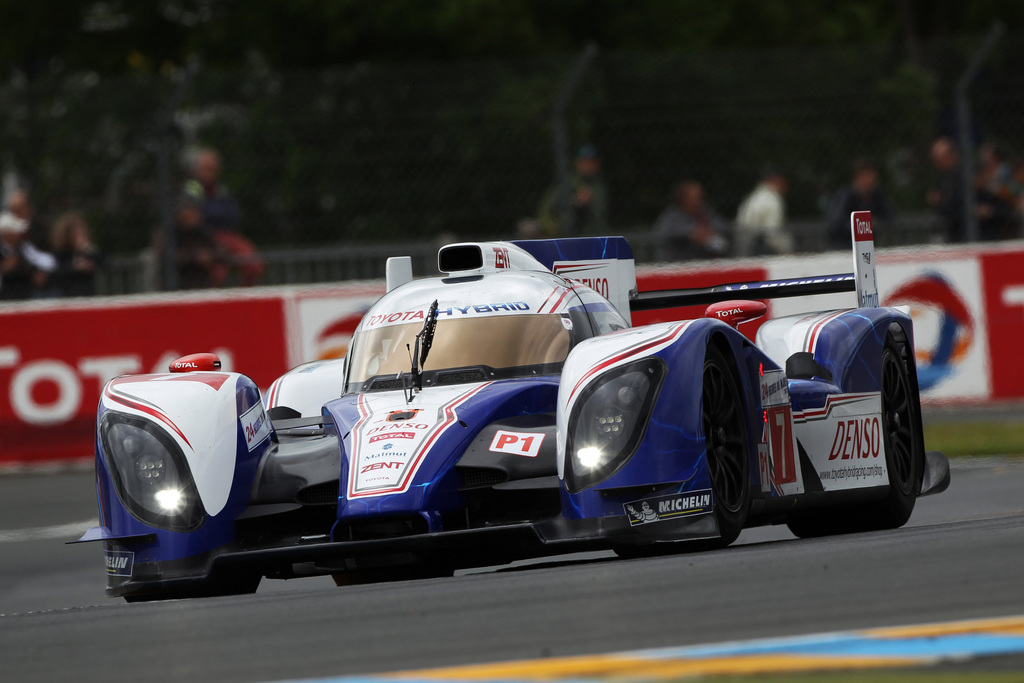Car: (63, 210, 950, 601)
